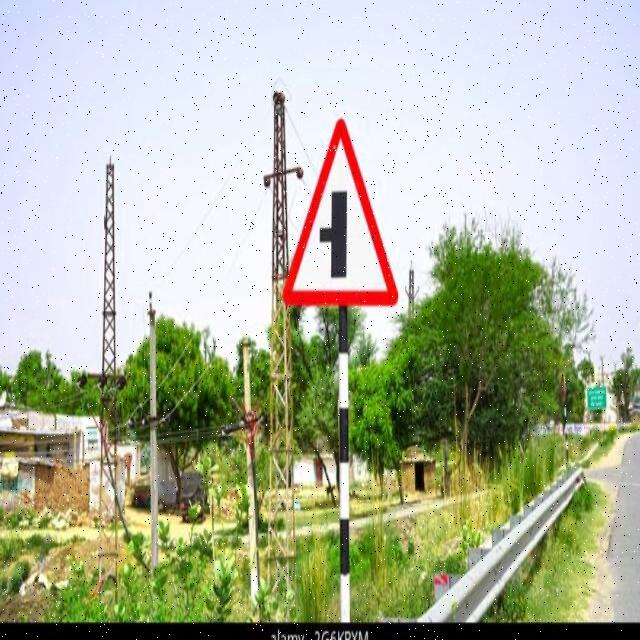Sideroad_toleft: (280, 118, 397, 304)
